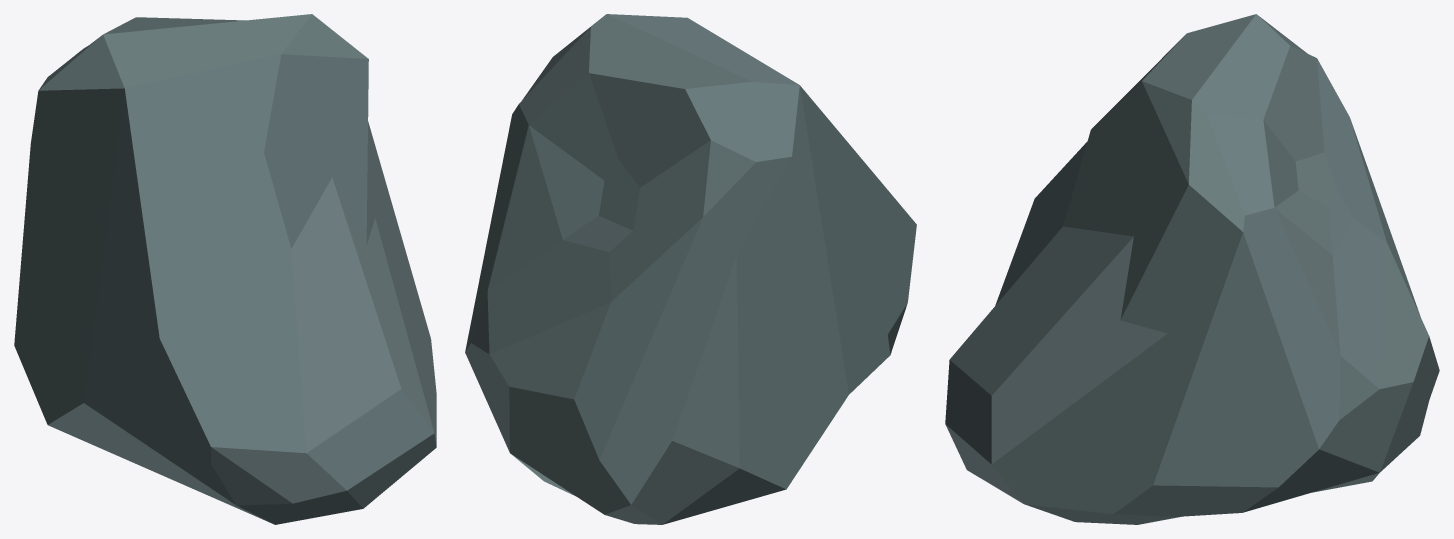
Rendered from Stone_0.glb.
The picture shows the model from 3 angles, left to right: view 1: azimuth 30°, elevation 25°; view 2: azimuth 150°, elevation 25°; view 3: azimuth 270°, elevation 25°; orthographic projection.
Parts seen in each view (by area): view 1: Stone; view 2: Stone; view 3: Stone.
Boxes of the visible parts, x1,y1,x2,y2 form: Stone: (14,14,436,524); Stone: (465,14,916,524); Stone: (945,14,1439,524).
Size of the model in its own units: 1.93 by 2.22 by 2.46.
